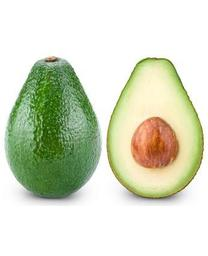avocado: (4, 56, 102, 200), (107, 55, 205, 199)
